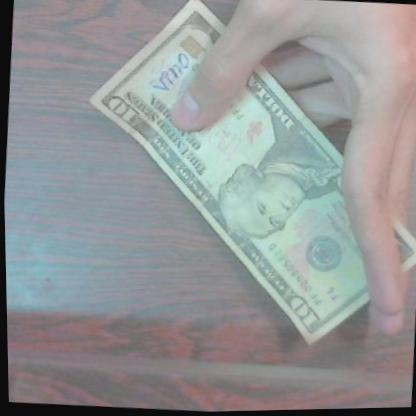ten-front: (69, 0, 368, 360)
